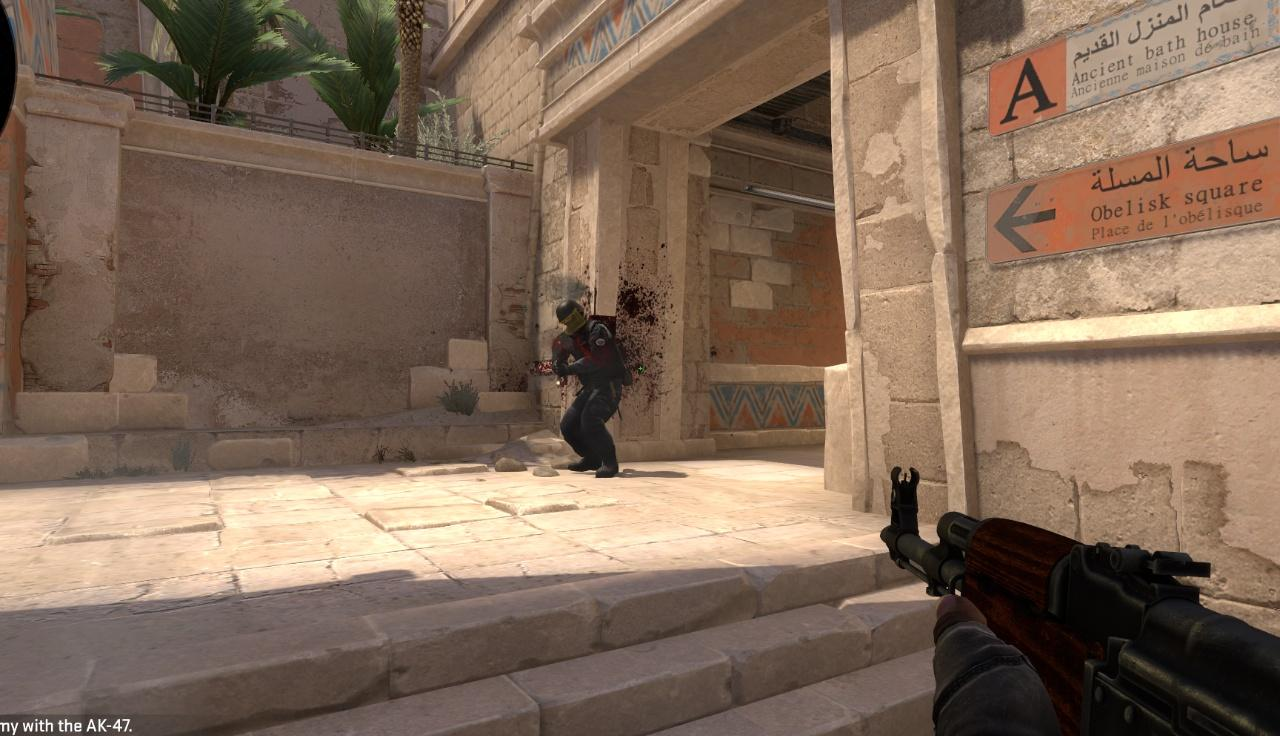ct: (554, 301, 621, 479)
cthead: (556, 302, 584, 331)
rifle: (881, 468, 1278, 736)
